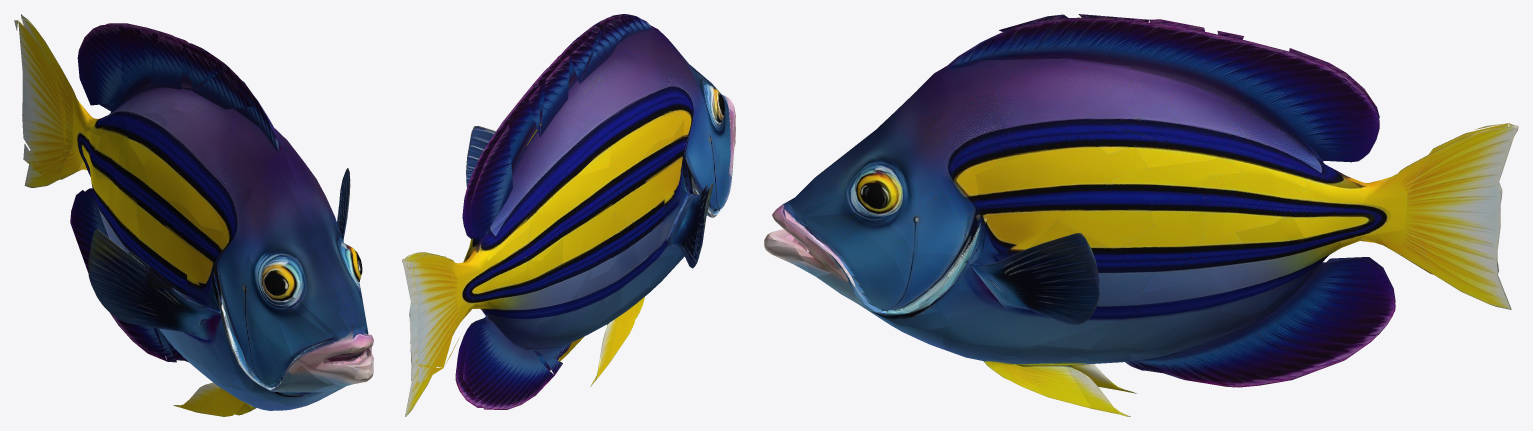
Rendered from fish-angel.glb.
The picture shows the model from 3 angles, left to right: view 1: azimuth 30°, elevation 25°; view 2: azimuth 150°, elevation 25°; view 3: azimuth 270°, elevation 25°; orthographic projection. The views are drawn at different scales.
Bounding box in the file's own units: 0.1762 × 0.2388 × 0.42.
1 material, 1 textured.
